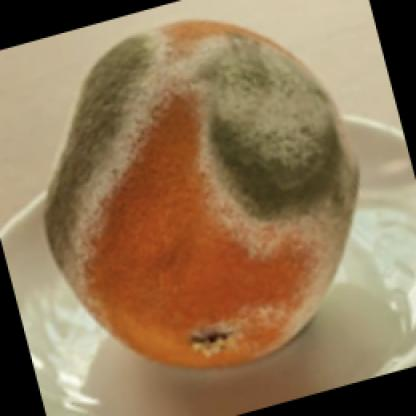rotten: (51, 21, 360, 368)
